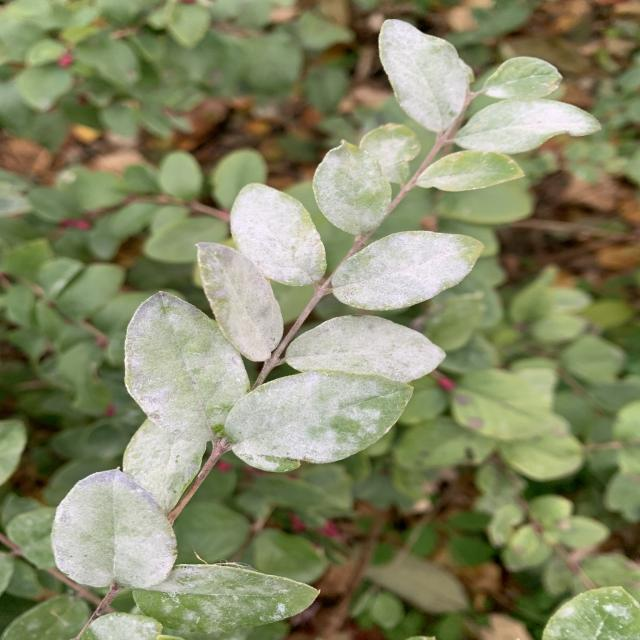powdery_mildew: (224, 371, 412, 472), (125, 292, 249, 442), (52, 469, 177, 588), (333, 231, 482, 310), (285, 315, 445, 382), (197, 242, 283, 361), (379, 20, 470, 132), (231, 183, 326, 286), (455, 99, 600, 154), (123, 418, 206, 514), (313, 141, 391, 235), (416, 151, 523, 191), (360, 124, 420, 183)
